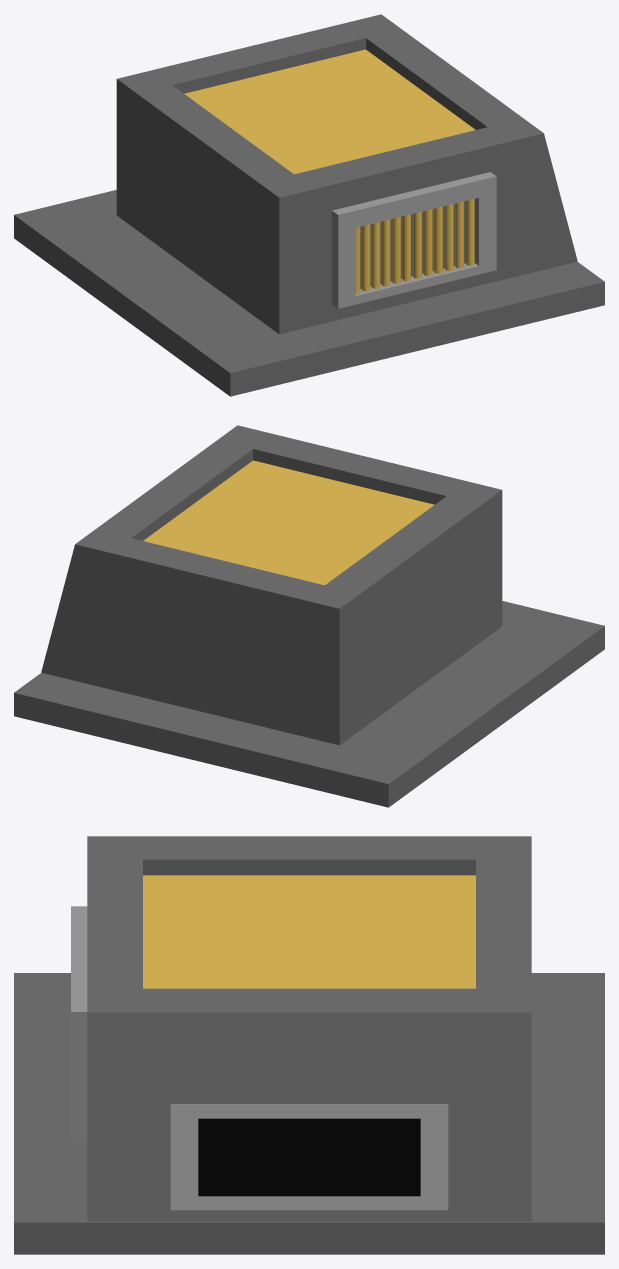
The model's file is grinding Machine.fbx.
3 renders of one model, top to bottom at view 1: azimuth 30°, elevation 25°; view 2: azimuth 150°, elevation 25°; view 3: azimuth 270°, elevation 25°, orthographic. The views are drawn at different scales.
Visible parts, largest first — view 1: Plane; view 2: Plane; view 3: Plane.
Part boxes in pixels (x1=…): Plane: x1=14, y1=14, x2=604, y2=396; Plane: x1=14, y1=425, x2=604, y2=807; Plane: x1=14, y1=836, x2=604, y2=1254.
Bounding box in the file's own units: 652 × 265 × 647.
